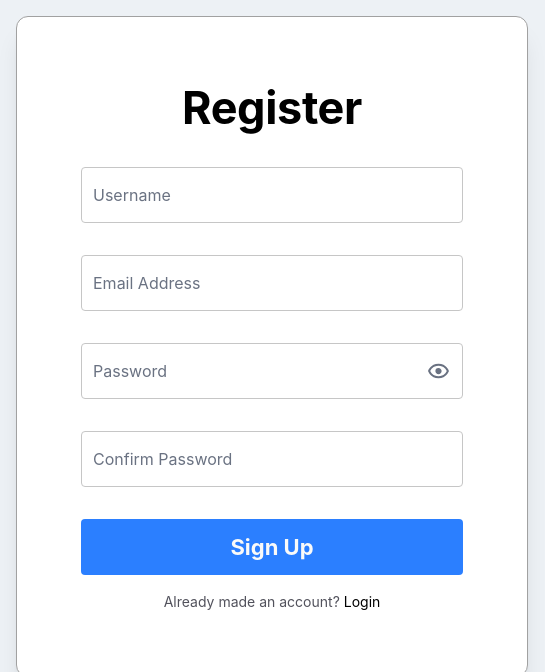
Test: Registration Form › shows an error message when the user enters a username containing username!
Type "username!" into the field labelled "Username". click: (272, 195)
box: [81,167,463,223]
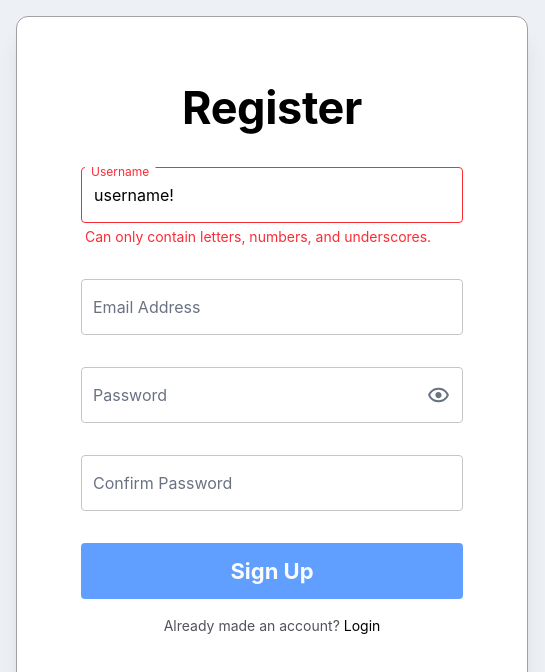
Expected: the text "Can only contain letters, numbers, and underscores." is shown, [85,227,463,247]
